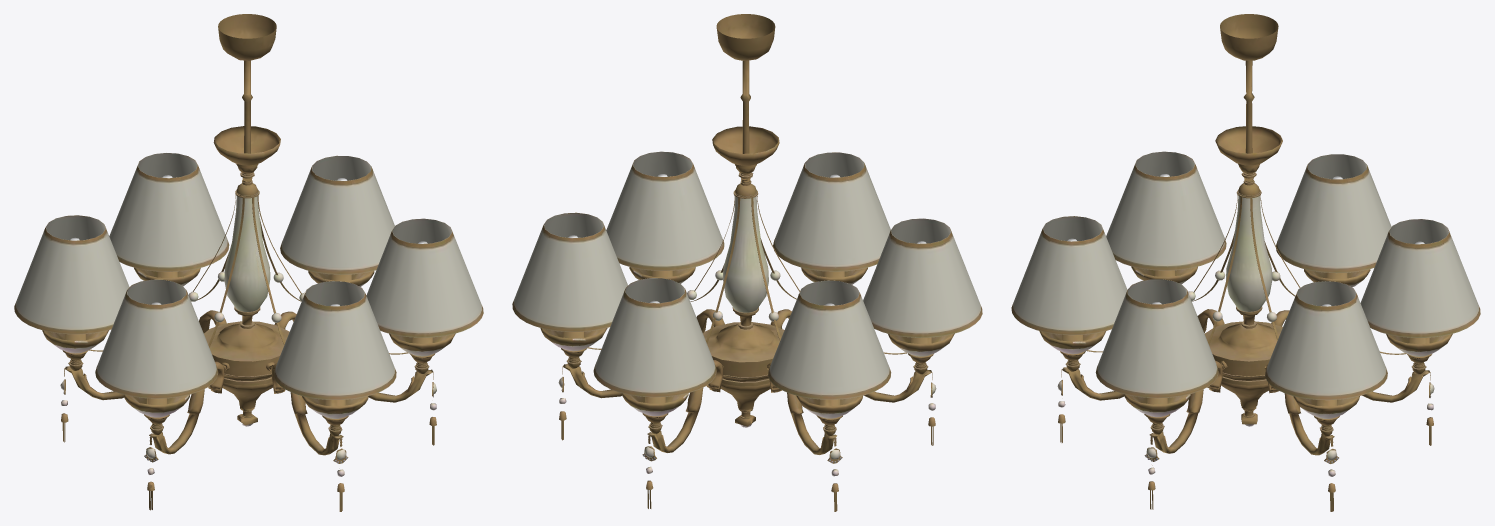
The model's file is Chandelier_01.glb.
3 renders of one model, left to right at view 1: azimuth 30°, elevation 25°; view 2: azimuth 150°, elevation 25°; view 3: azimuth 270°, elevation 25°, orthographic.
Visible parts, largest first — view 1: Chandelier_01; view 2: Chandelier_01; view 3: Chandelier_01.
Boxes of the visible parts, box(x1,y1,x2,y2) form: Chandelier_01: box(14, 14, 483, 511); Chandelier_01: box(512, 14, 982, 511); Chandelier_01: box(1011, 14, 1480, 511).
Size of the model in its own units: 0.7465 by 0.7983 by 0.8155.
2 materials, 1 textured.
